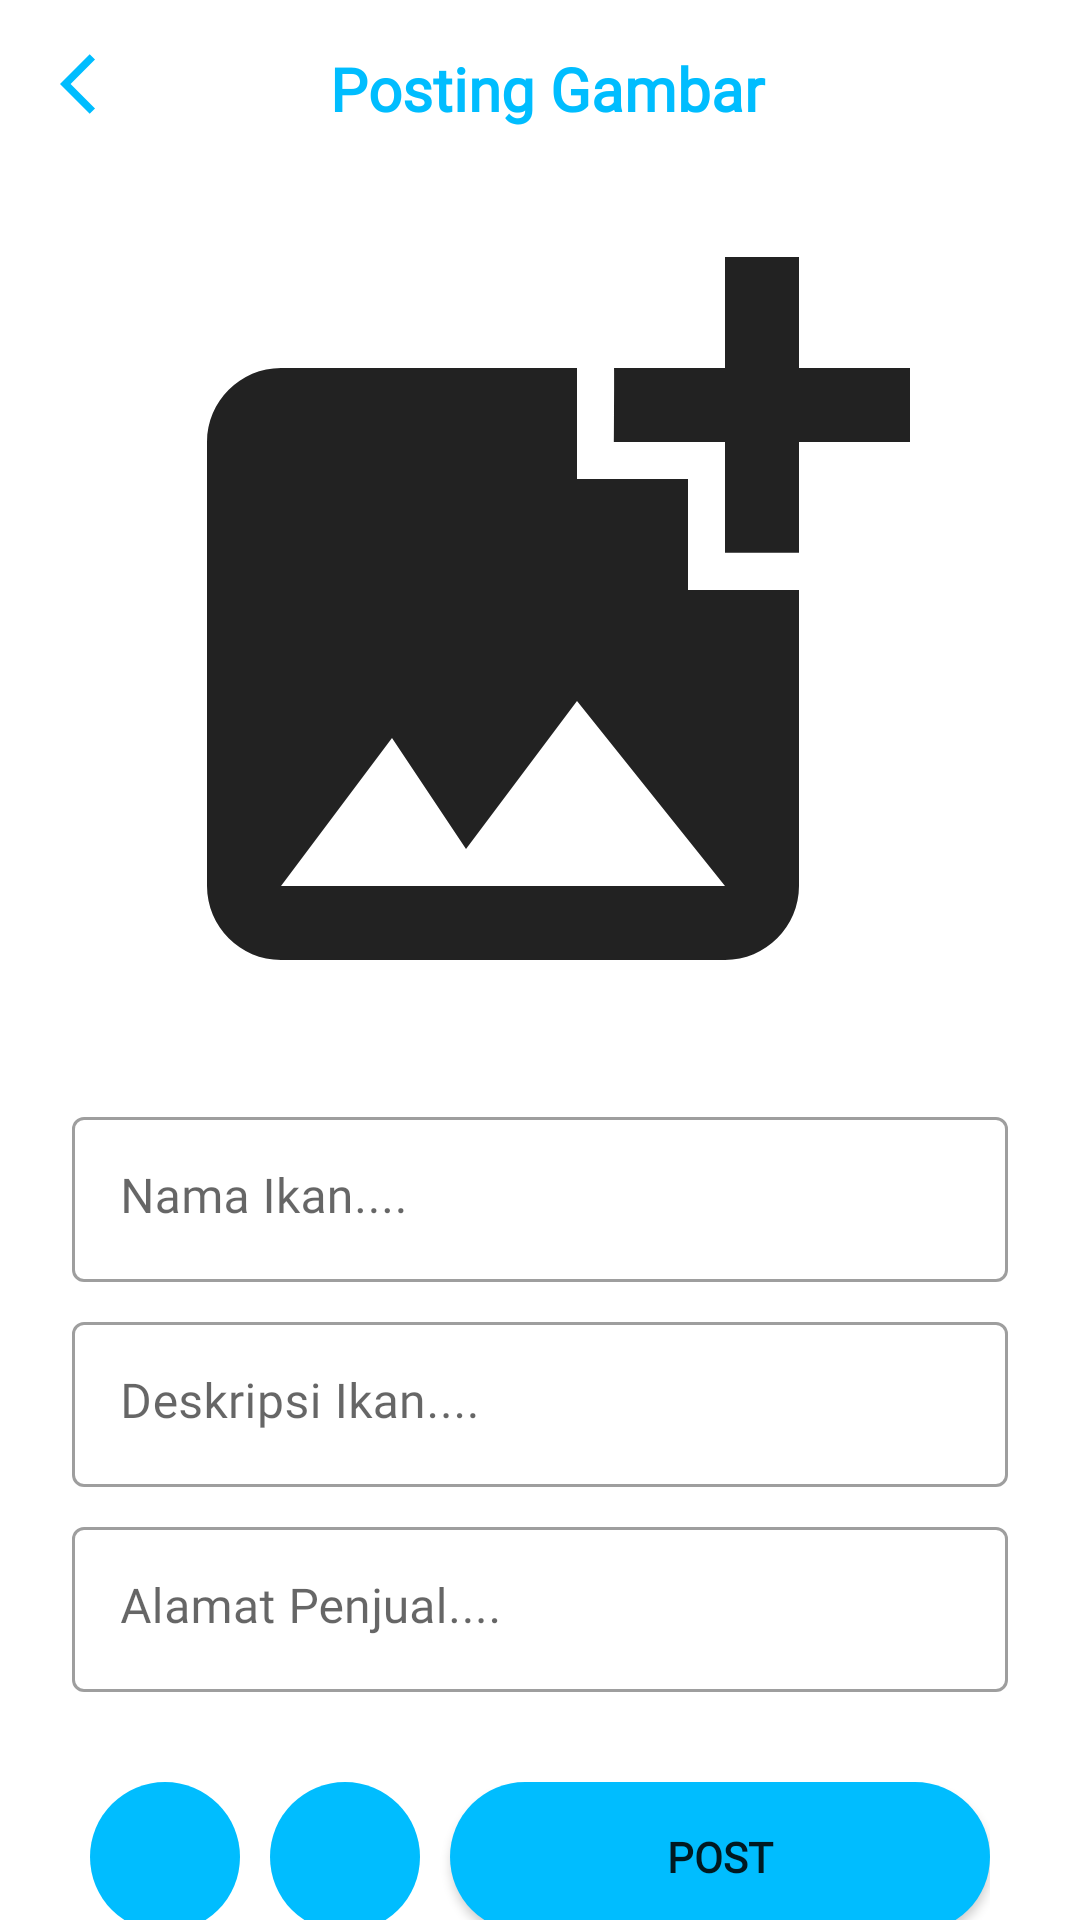

Screen size 1080w x 1920h. Icon name, then its box in pixels as (x1, y1, x2, y2):
back: (60, 54, 95, 114)
